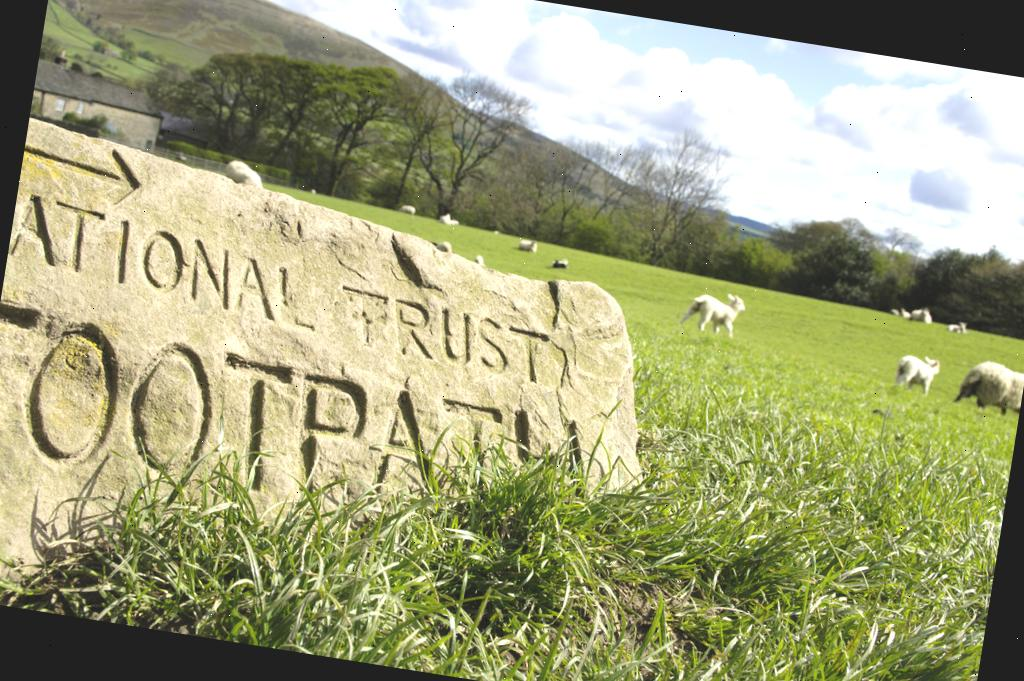Sheep: (949, 353, 1024, 417), (680, 286, 750, 337), (896, 350, 944, 398)
